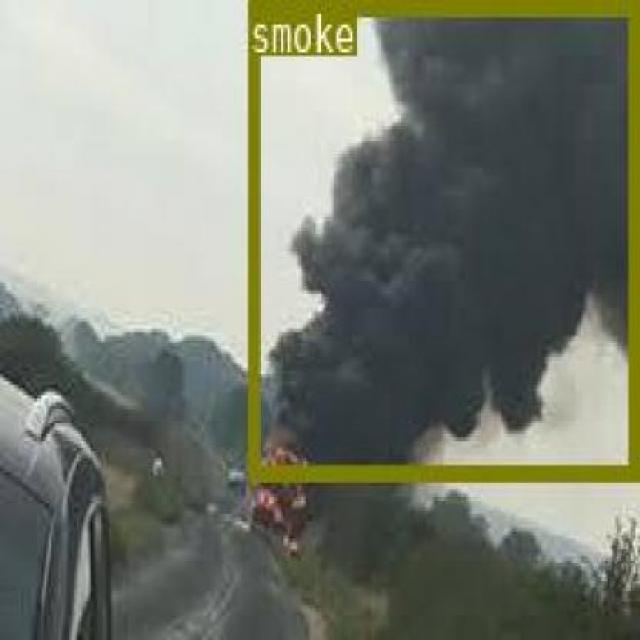Smoke: (246, 0, 635, 475)
